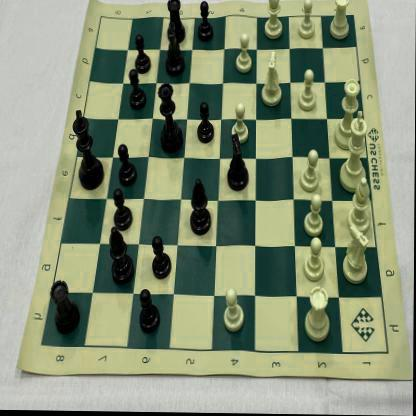black-bishop: (110, 222, 136, 286), (190, 178, 212, 236)
black-king: (71, 107, 105, 192)
black-knight: (225, 135, 253, 193), (164, 21, 188, 76)
black-pawn: (138, 288, 162, 338), (152, 235, 174, 280), (118, 142, 139, 189), (112, 188, 134, 232), (197, 101, 217, 144), (128, 70, 148, 112), (197, 0, 215, 45), (134, 35, 150, 76)
black-queen: (159, 82, 184, 152)
black-rook: (52, 276, 81, 334), (164, 0, 189, 46)
white-bishop: (348, 175, 375, 234), (264, 0, 284, 42)
white-king: (338, 110, 370, 193)
white-knight: (342, 224, 372, 286), (260, 50, 284, 110)
white-pawn: (222, 286, 246, 336), (302, 236, 326, 284), (299, 148, 323, 190), (234, 30, 254, 76), (297, 69, 318, 112), (304, 192, 324, 237), (296, 0, 317, 42), (232, 101, 250, 146)
white-queen: (334, 76, 364, 152)
white-rook: (304, 282, 332, 342), (328, 0, 354, 40)
